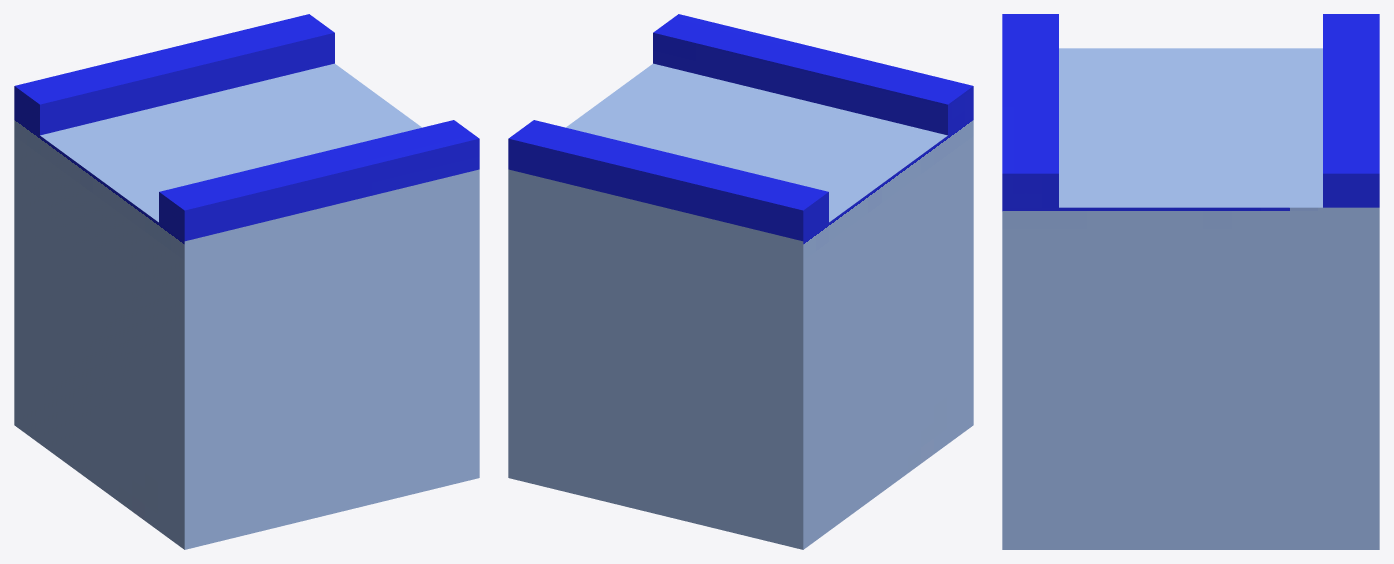
File: Ground.obj
The picture shows the model from 3 angles, left to right: view 1: azimuth 30°, elevation 25°; view 2: azimuth 150°, elevation 25°; view 3: azimuth 270°, elevation 25°; orthographic projection. The views are drawn at different scales.
Visible parts, largest first — view 1: 立方体; view 2: 立方体; view 3: 立方体.
Part boxes in pixels (x1=…): 立方体: x1=14, y1=14, x2=479, y2=549; 立方体: x1=508, y1=14, x2=973, y2=549; 立方体: x1=1002, y1=14, x2=1379, y2=549.
Bounding box in the file's own units: 2 × 2.2 × 2.
1 material, 1 textured.
